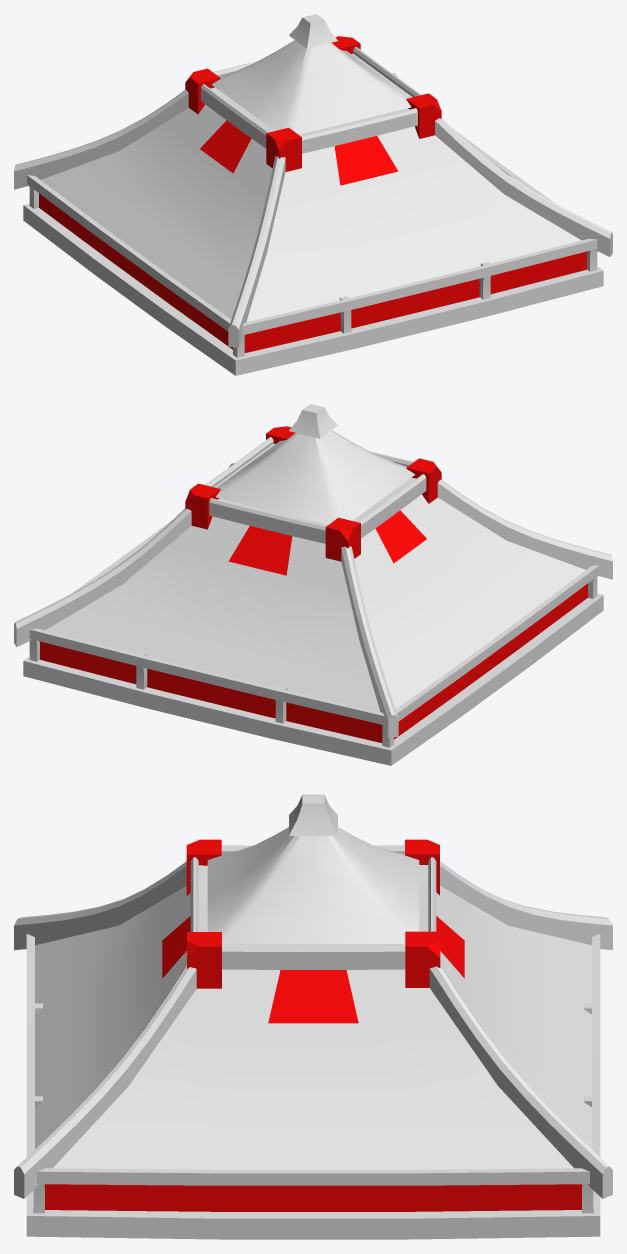
The model's file is roof_pavilion.glb.
3 renders of one model, top to bottom at view 1: azimuth 30°, elevation 25°; view 2: azimuth 150°, elevation 25°; view 3: azimuth 270°, elevation 25°, orthographic. The views are drawn at different scales.
Parts seen in each view (by area): view 1: Plane.003, Plane.002, Base, Cube.014, Base.001, Cube.010, Rib.001, Rib.003, Cube.013, Rib, Cube.003, Cube.002 (+7 smaller); view 2: Plane.001, Plane.002, Base, Cube.014, Base.001, Cube.012, Rib.002, Rib, Cube.013, Rib.003, Cube.005, Cube.002 (+7 smaller); view 3: Plane, Cube.014, Plane.001, Plane.003, Base, Cube.011, Base.001, Rib.002, Rib.001, Cube.004, Rib, Rib.003 (+8 smaller).
Boxes of the visible parts, x1,y1,x2,y2 form: Plane.003: [246, 126, 581, 322]; Plane.002: [41, 104, 272, 319]; Base: [23, 203, 603, 375]; Cube.014: [212, 14, 411, 134]; Base.001: [27, 129, 597, 335]; Cube.010: [244, 251, 587, 352]; Rib.001: [435, 118, 612, 256]; Rib.003: [14, 90, 188, 189]; Cube.013: [39, 193, 232, 349]; Rib: [228, 156, 285, 347]; Cube.003: [301, 108, 417, 153]; Cube.002: [201, 84, 269, 148]; Plane.001: [45, 516, 380, 712]; Plane.002: [354, 494, 585, 709]; Base: [23, 593, 603, 765]; Cube.014: [216, 404, 415, 524]; Base.001: [29, 519, 599, 725]; Cube.012: [39, 641, 382, 742]; Rib.002: [14, 508, 191, 646]; Rib: [437, 479, 612, 579]; Cube.013: [394, 583, 587, 739]; Rib.003: [341, 546, 398, 737]; Cube.005: [209, 498, 326, 543]; Cube.002: [357, 474, 426, 538]; Plane: [53, 969, 573, 1169]; Cube.014: [207, 794, 419, 943]; Plane.001: [436, 885, 591, 1149]; Plane.003: [35, 886, 190, 1149]; Base: [26, 1191, 600, 1239]; Cube.011: [44, 1184, 582, 1211]; Base.001: [26, 934, 600, 1185]; Rib.002: [429, 965, 612, 1198]; Rib.001: [14, 965, 196, 1198]; Cube.004: [222, 945, 405, 969]; Rib: [14, 861, 186, 950]; Rib.003: [440, 861, 612, 950].
Bounding box in the file's own units: 5.22 × 3.07 × 5.22.
